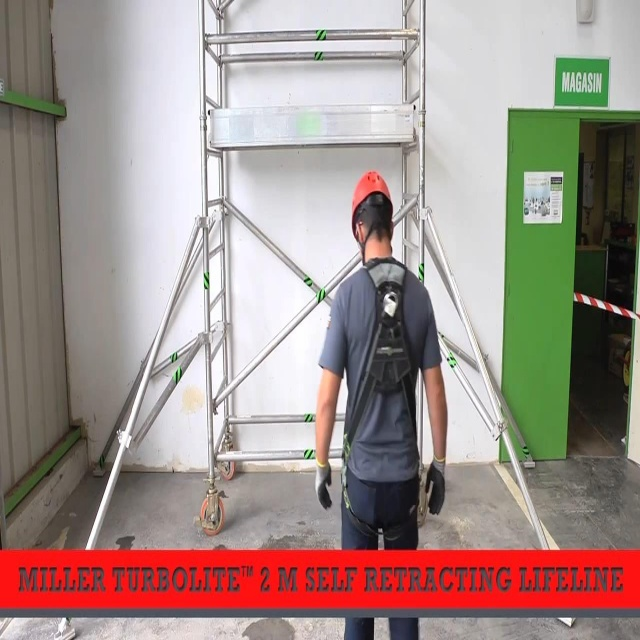Arnes_seguridad: (331, 245, 426, 542)
